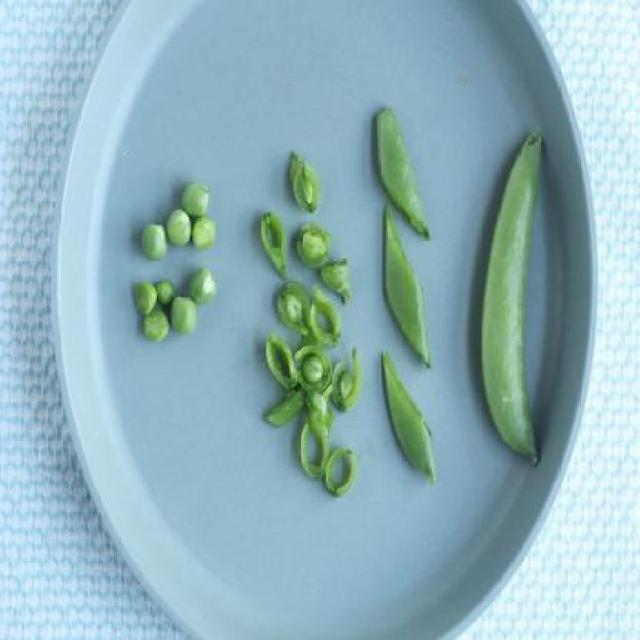Peas: (127, 106, 542, 505)
